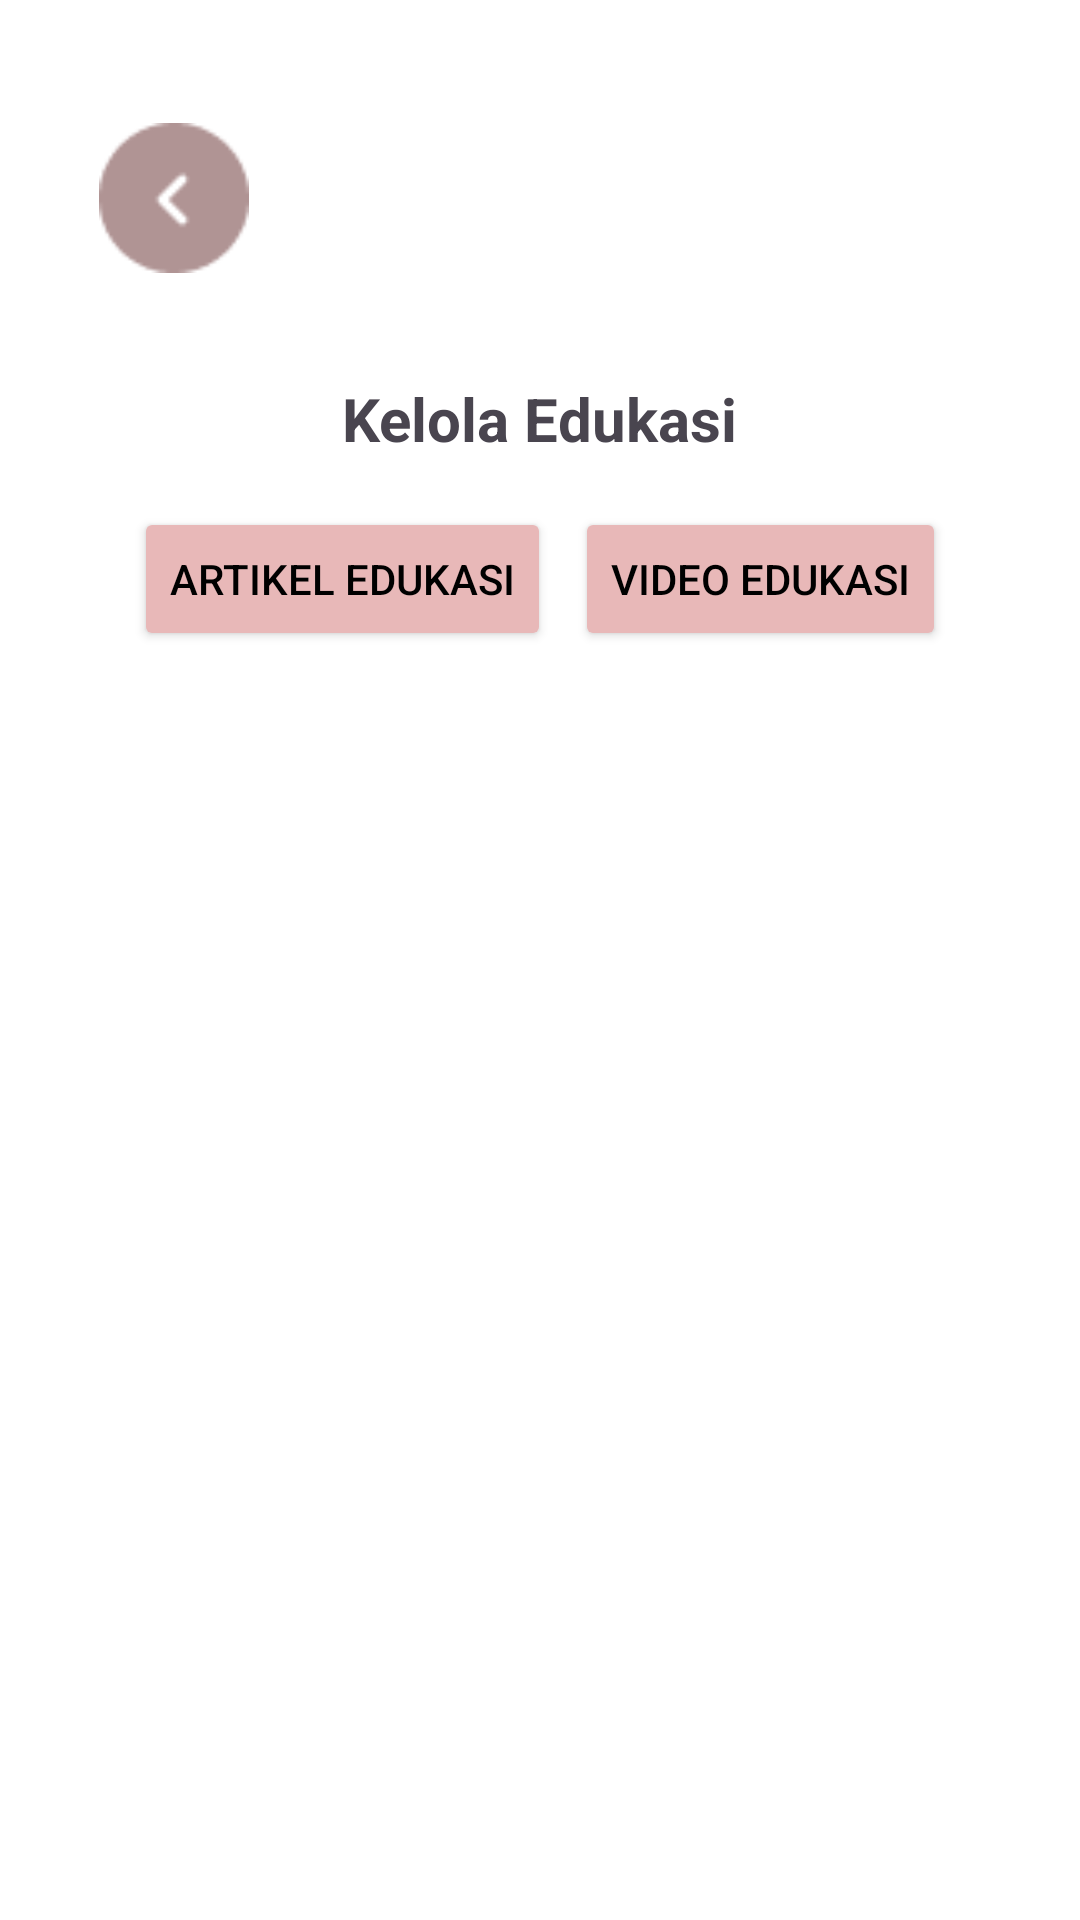

Icon bounding boxes for this 1080*1920 phone screenshot, format (x1, y1, x2, y2):
back home: (99, 123, 249, 273)
